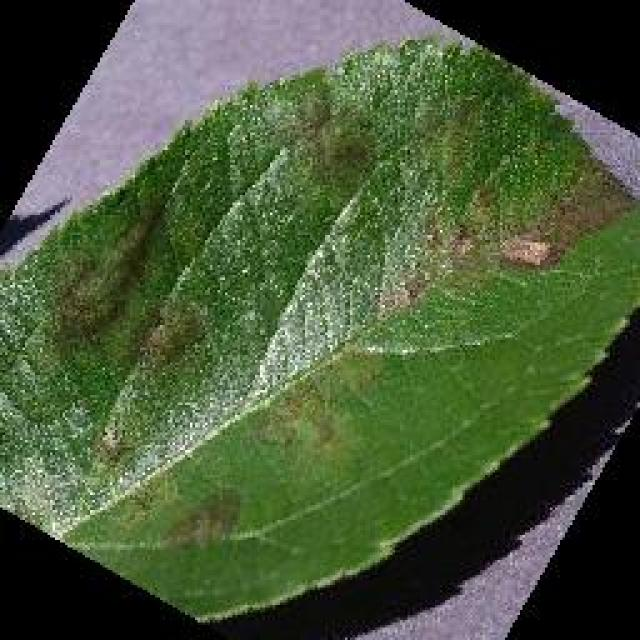apple scab disease: (0, 30, 638, 628)
